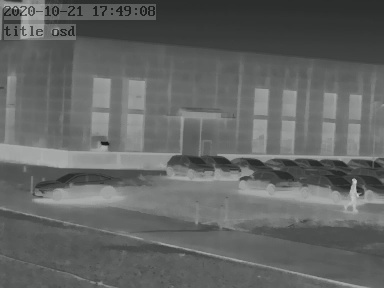person: (342, 177, 360, 214)
vehicle: (33, 173, 123, 201), (295, 172, 365, 200), (239, 169, 295, 192), (165, 153, 212, 178), (204, 153, 242, 177), (233, 154, 269, 171), (346, 155, 380, 170), (262, 155, 295, 170), (317, 156, 348, 170), (296, 156, 325, 169)
